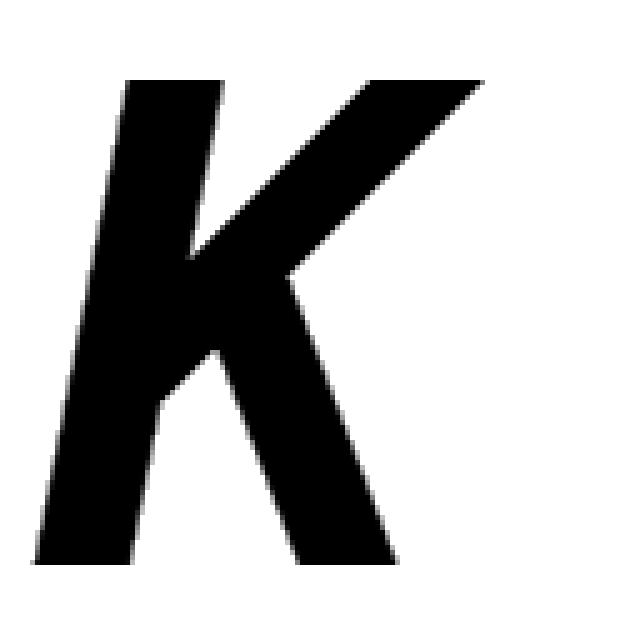K: (25, 65, 485, 570)
